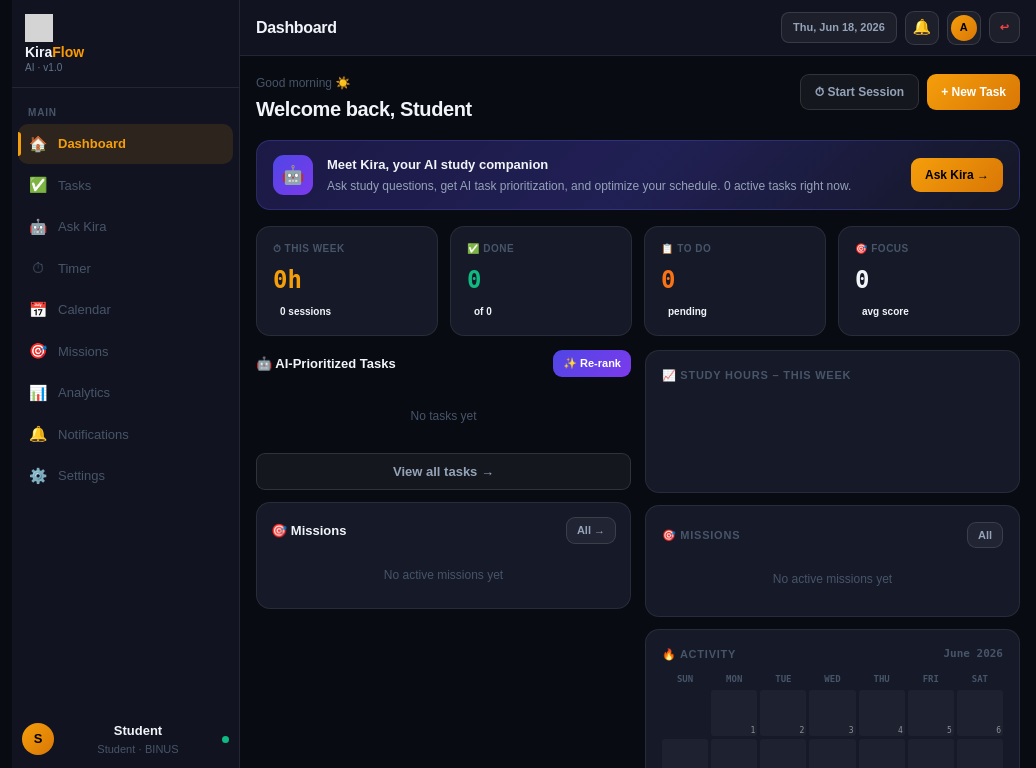
DashboardPage – Navigation › DB-13: clicking Settings nav shows settings page
Click the button "⚙️ Settings": click(126, 476) x1=18 y1=456 x2=233 y2=496
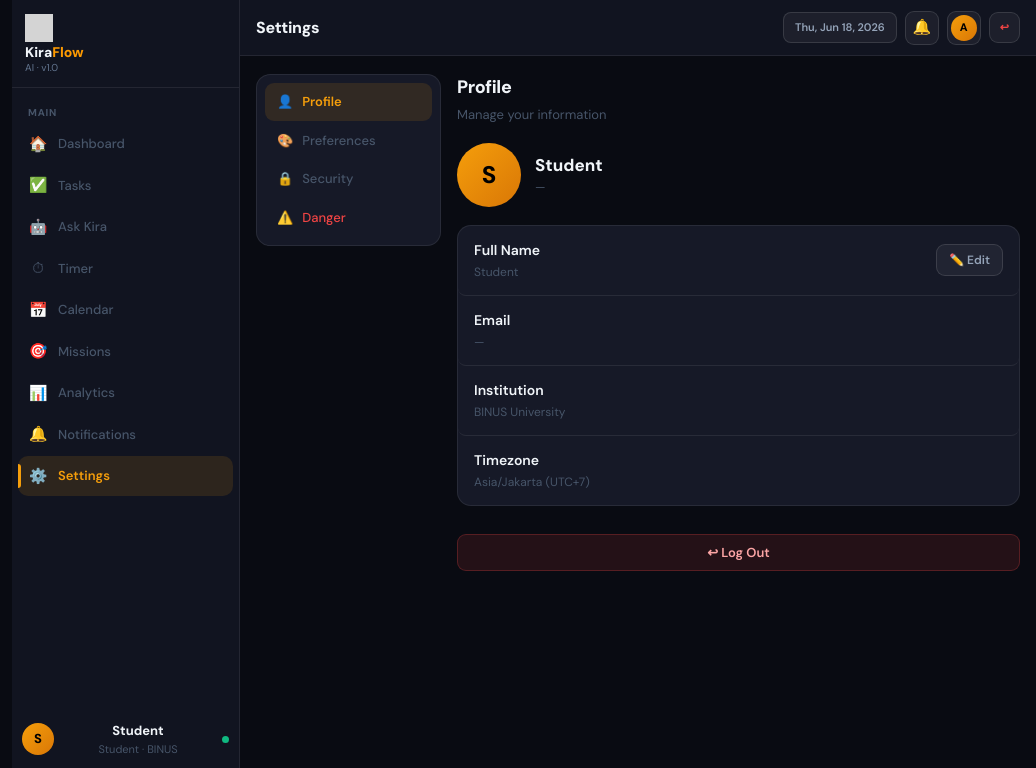
Expected: the text "Manage your information" is shown, x1=457 y1=106 x2=606 y2=123
